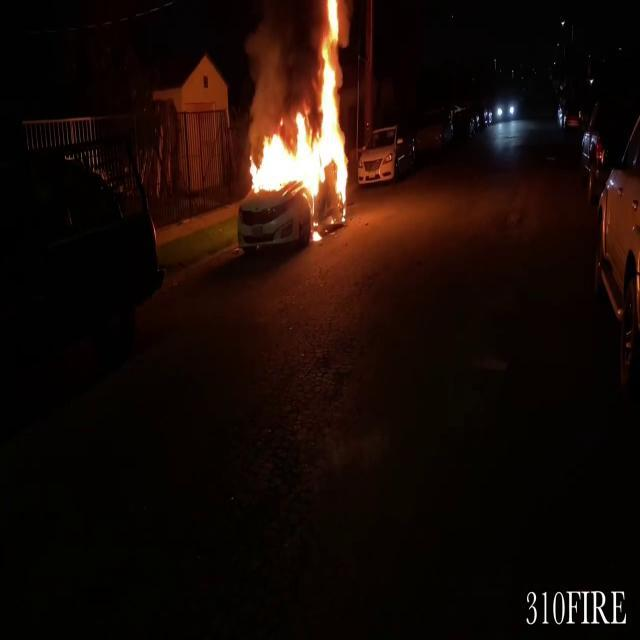Fire: (246, 1, 354, 226)
